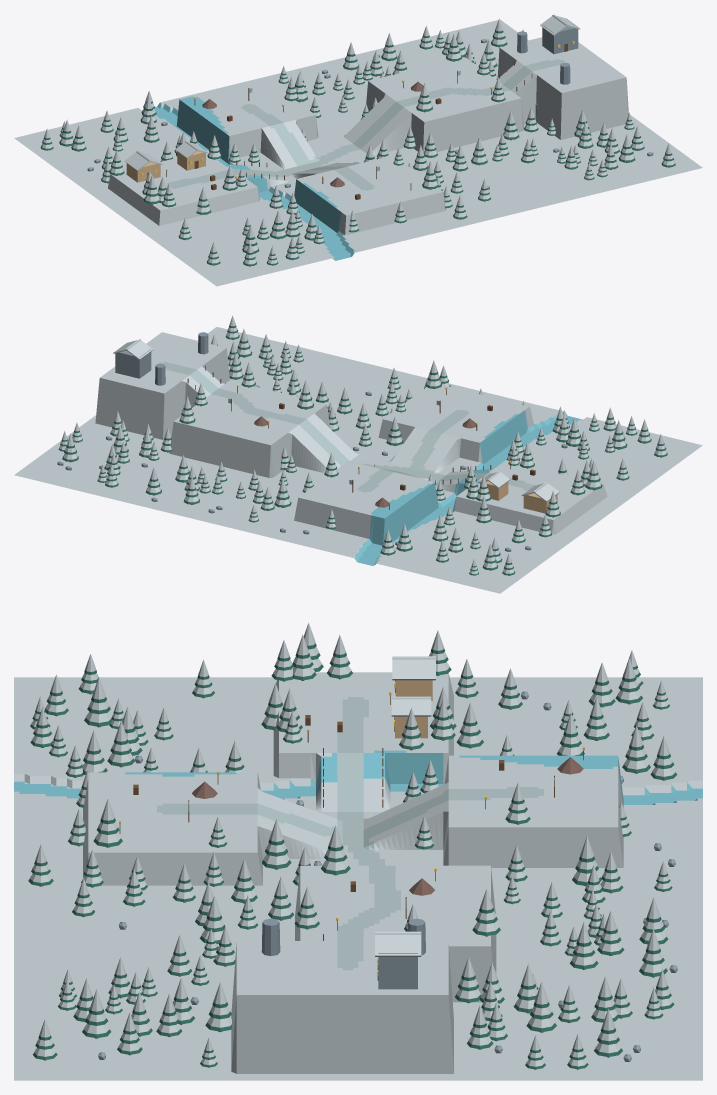
The model's file is terrain.glb.
The picture shows the model from 3 angles, top to bottom: view 1: azimuth 30°, elevation 25°; view 2: azimuth 150°, elevation 25°; view 3: azimuth 270°, elevation 25°; orthographic projection. The views are drawn at different scales.
Visible parts, largest first — view 1: Snowday_Terrain, Snowday_Scenery; view 2: Snowday_Terrain, Snowday_Scenery; view 3: Snowday_Terrain, Snowday_Scenery.
Boxes of the visible parts, bbox=[...] form: Snowday_Terrain: bbox=[14, 19, 702, 286]; Snowday_Scenery: bbox=[40, 14, 675, 266]; Snowday_Terrain: bbox=[14, 327, 702, 593]; Snowday_Scenery: bbox=[57, 315, 667, 575]; Snowday_Terrain: bbox=[14, 672, 702, 1080]; Snowday_Scenery: bbox=[28, 623, 677, 1069].
Bounding box in the file's own units: 144 × 21.56 × 104.
